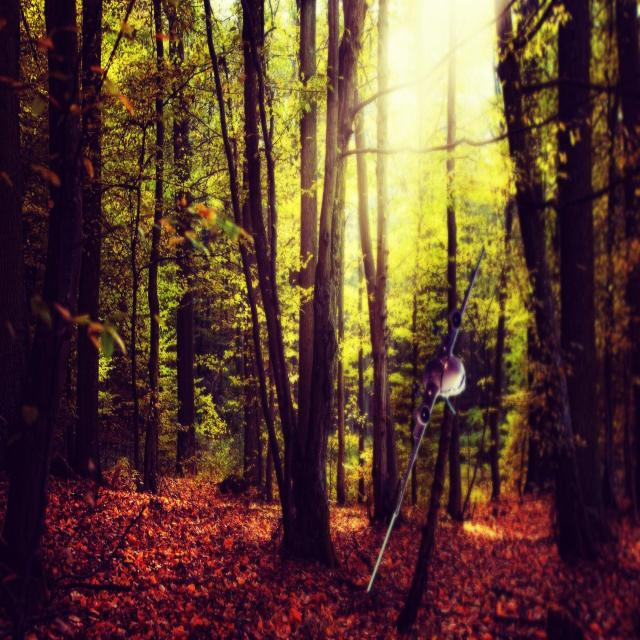airplane: (366, 244, 485, 593)
